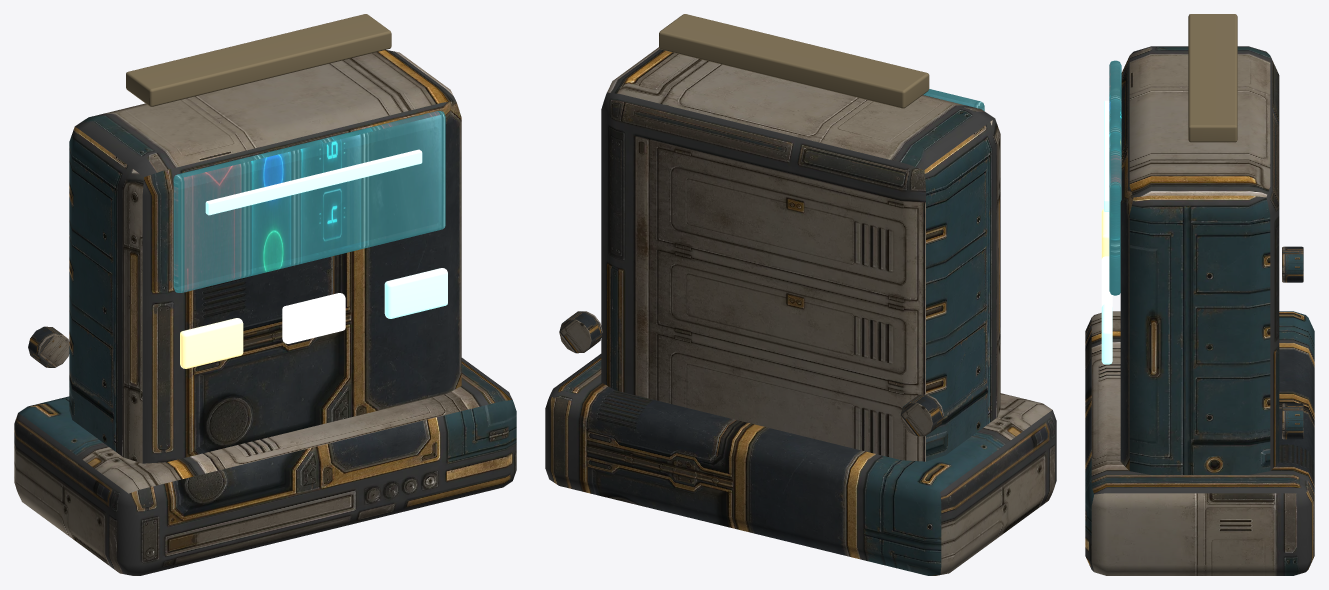
Rendered from hp_terminal_family_light_control_pedestal.glb.
3 renders of one model, left to right at view 1: azimuth 30°, elevation 25°; view 2: azimuth 150°, elevation 25°; view 3: azimuth 270°, elevation 25°, orthographic. The views are drawn at different scales.
Visible parts, largest first — view 1: sloped_control_body, grounded_pedestal_base, image2_recessed_light_sequence_screen, blank_sequence_tray_no_answer, cyan_screen_baseline, large_color_button_0, large_color_button_1; view 2: sloped_control_body, grounded_pedestal_base, blank_sequence_tray_no_answer; view 3: sloped_control_body, grounded_pedestal_base, blank_sequence_tray_no_answer, image2_recessed_light_sequence_screen, cyan_screen_baseline, large_color_button_1, large_color_button_0.
Boxes of the visible parts, <box> form: sloped_control_body: <box>69,50,461,463</box>; grounded_pedestal_base: <box>14,326,516,575</box>; image2_recessed_light_sequence_screen: <box>173,111,445,292</box>; blank_sequence_tray_no_answer: <box>126,14,391,106</box>; cyan_screen_baseline: <box>205,149,447,318</box>; large_color_button_0: <box>180,318,243,368</box>; large_color_button_1: <box>282,293,345,343</box>; sloped_control_body: <box>601,47,1000,461</box>; grounded_pedestal_base: <box>545,311,1056,575</box>; blank_sequence_tray_no_answer: <box>659,14,929,108</box>; sloped_control_body: <box>1120,46,1279,474</box>; grounded_pedestal_base: <box>1085,246,1314,575</box>; blank_sequence_tray_no_answer: <box>1188,14,1237,142</box>; image2_recessed_light_sequence_screen: <box>1109,60,1121,295</box>; cyan_screen_baseline: <box>1101,100,1112,364</box>; large_color_button_1: <box>1101,256,1112,306</box>; large_color_button_0: <box>1101,209,1109,258</box>.
Bounding box in the file's own units: 1.02 × 1.07 × 0.5303.
Materials: 7 (3 with a texture image).
